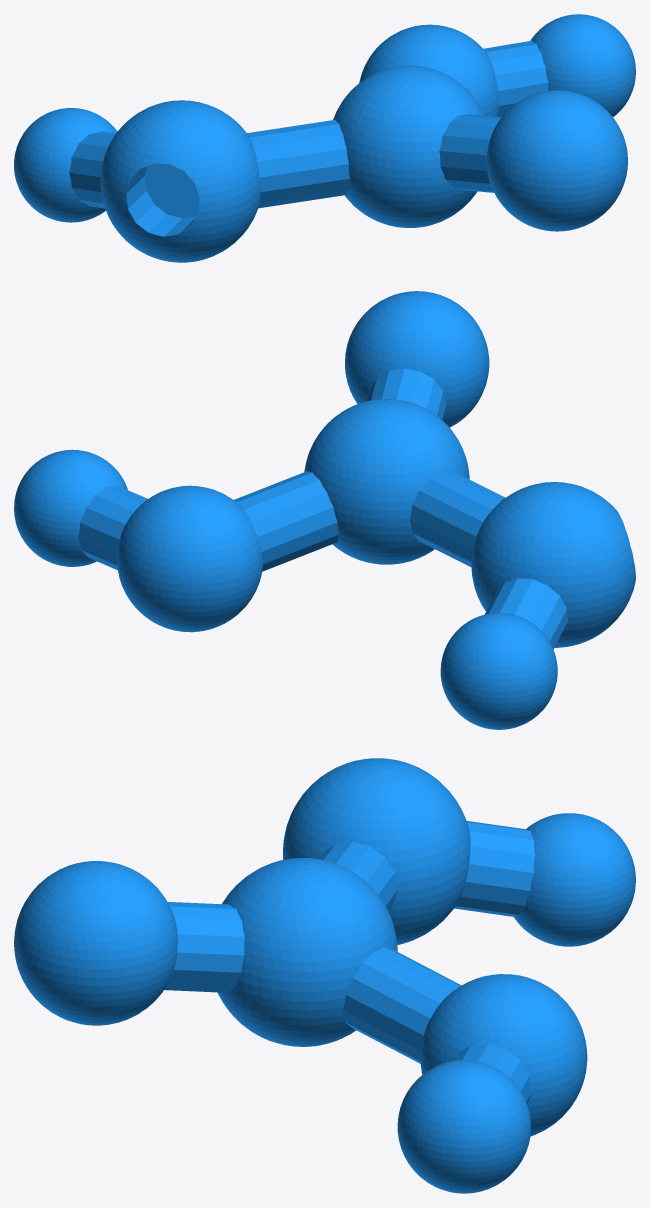
The model's file is 444539-bas-color-print_mr_NIH3D.glb.
3 renders of one model, top to bottom at view 1: azimuth 30°, elevation 25°; view 2: azimuth 150°, elevation 25°; view 3: azimuth 270°, elevation 25°, orthographic. The views are drawn at different scales.
Visible parts, largest first — view 1: 444539-bas-color-print_NIH3D_mr; view 2: 444539-bas-color-print_NIH3D_mr; view 3: 444539-bas-color-print_NIH3D_mr.
Boxes of the visible parts, x1,y1,x2,y2 form: 444539-bas-color-print_NIH3D_mr: (14,14,635,262); 444539-bas-color-print_NIH3D_mr: (14,291,635,729); 444539-bas-color-print_NIH3D_mr: (14,758,635,1193).
Bounding box in the file's own units: 4.07 × 1.41 × 3.35.
